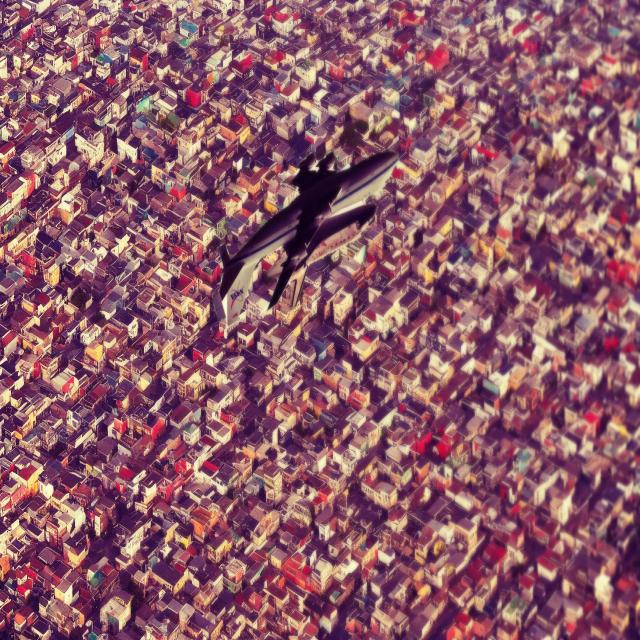airplane: (212, 146, 399, 339)
